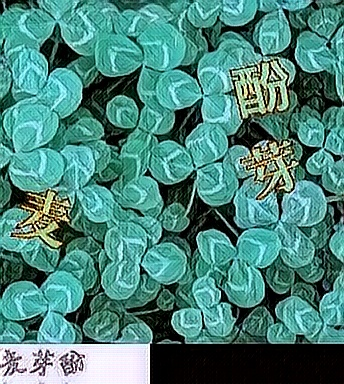B7D3: (228, 52, 291, 118)
C2F3: (9, 185, 72, 251)
D1BF: (240, 134, 303, 200)
